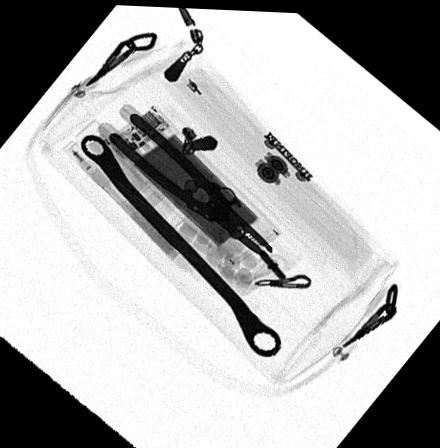Pliers: (104, 111, 274, 260)
Powerbank: (102, 101, 282, 265)
Wrench: (80, 133, 282, 356)
